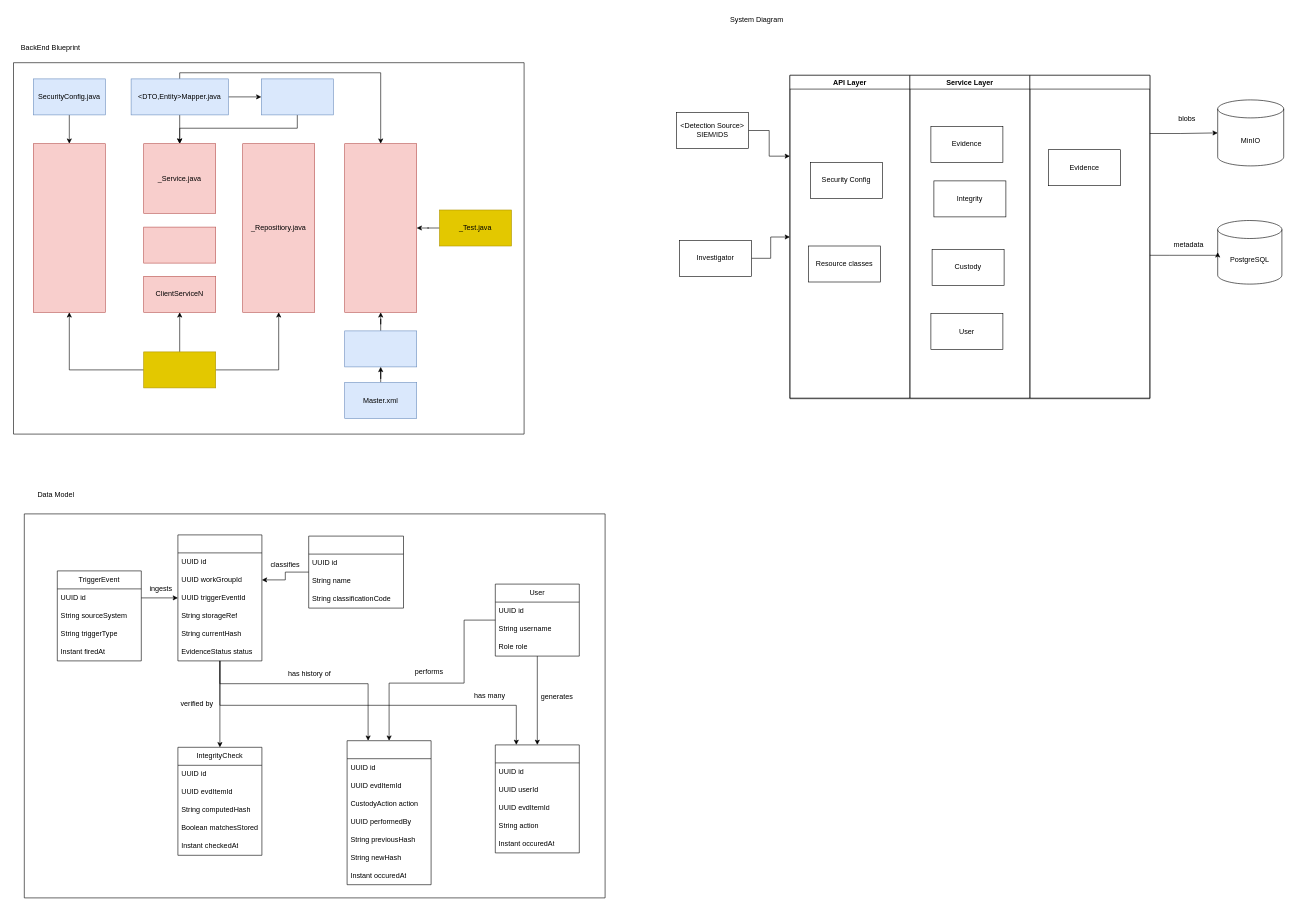
This 1294x908 diagram has some shape labels left out. The box of each missing label's shape, as (x1, y1, x2, y2) in pixels:
<Entity>.java: (344, 143, 417, 312)
<Entity>DTO.java: (261, 78, 333, 115)
_Resource.java: (33, 143, 105, 312)
_ResourceIT.java: (143, 351, 216, 388)
AccessLog: (495, 744, 579, 853)
ClientService1: (143, 226, 216, 263)
CustodyEvent: (346, 740, 431, 885)
EvidenceItem: (177, 534, 262, 661)
Liquibase Script: (344, 330, 417, 367)
Repo Layer: (1029, 75, 1150, 398)
WorkGroup: (308, 536, 404, 608)
